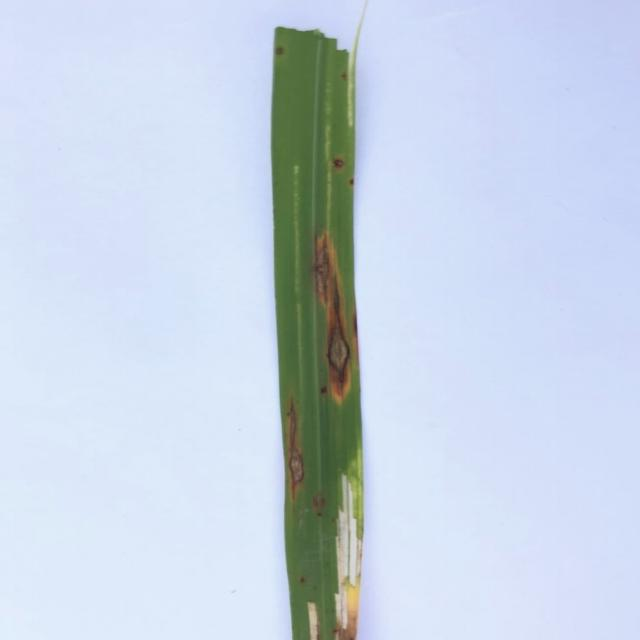leaf blast: (323, 274, 354, 403), (313, 230, 340, 308), (286, 398, 306, 498), (311, 490, 328, 518), (332, 155, 347, 175)
